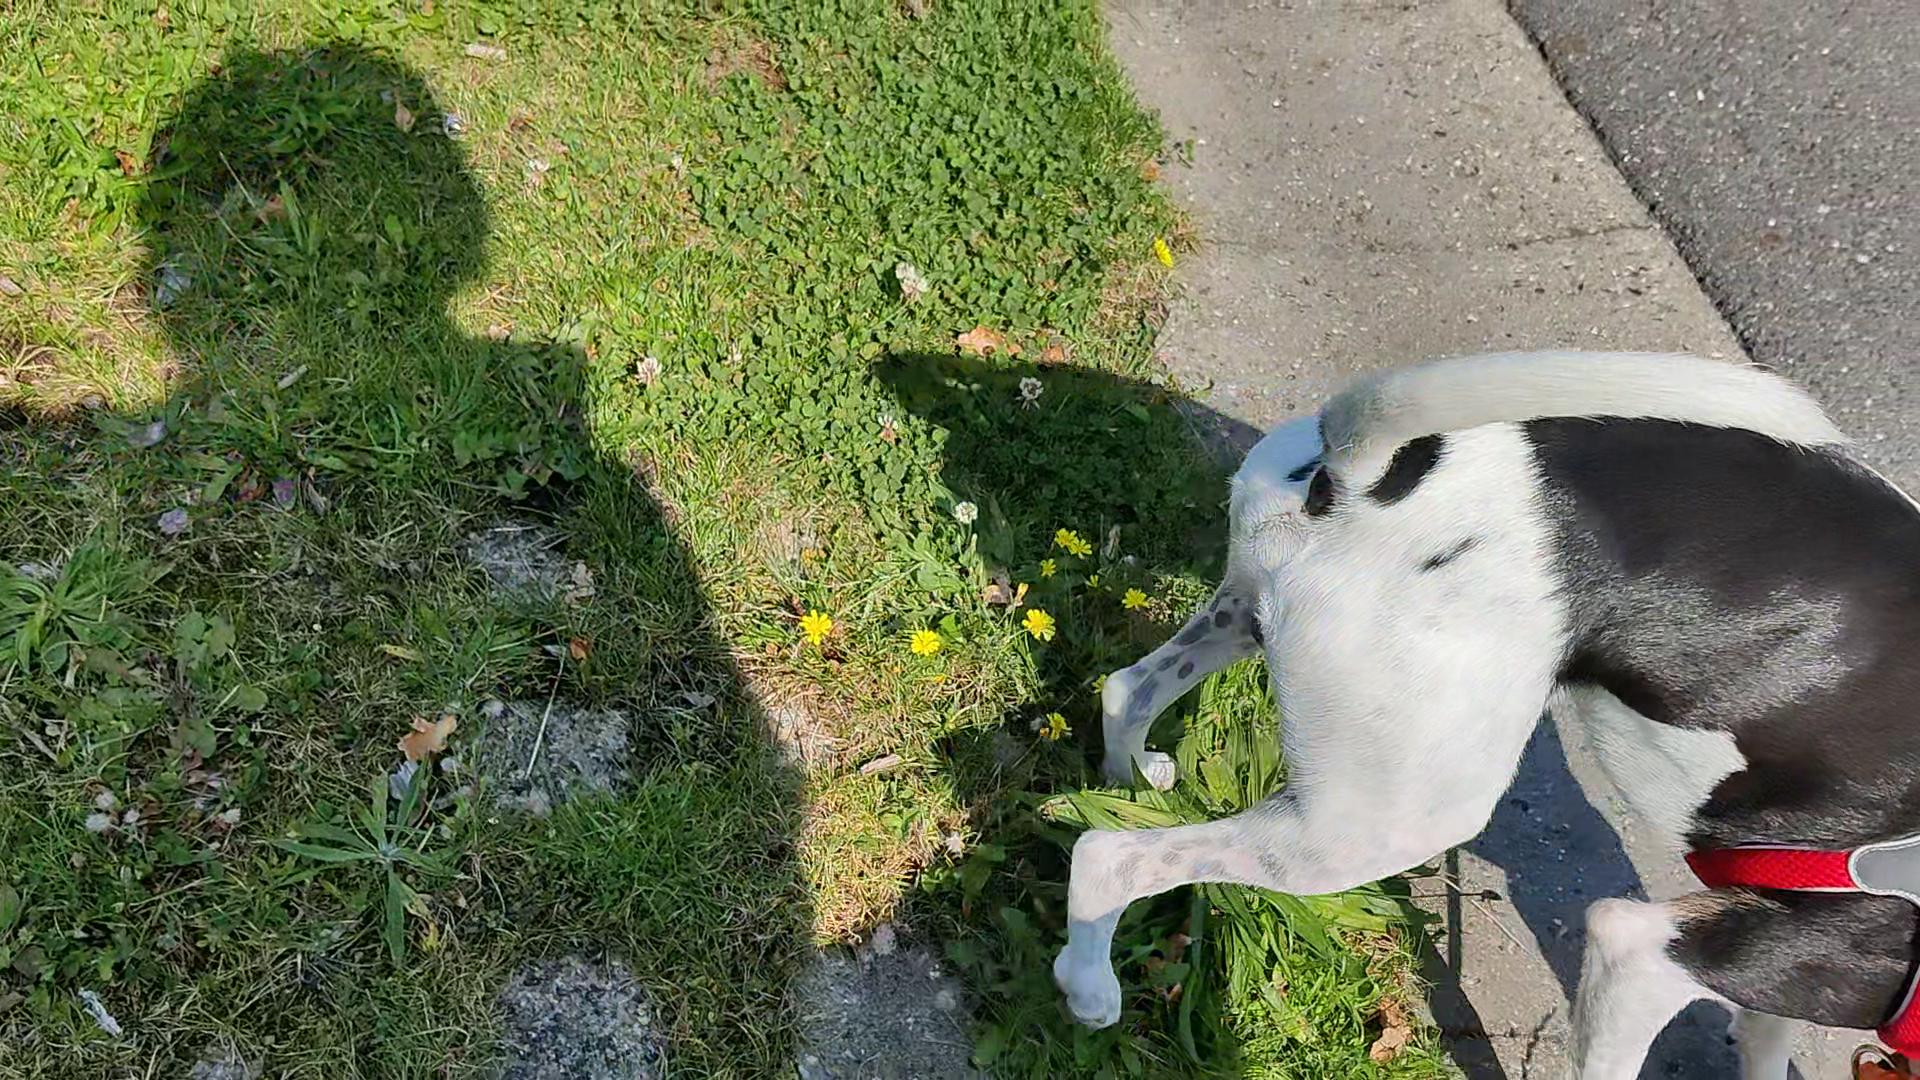Dog: (1044, 336, 1919, 1079)
